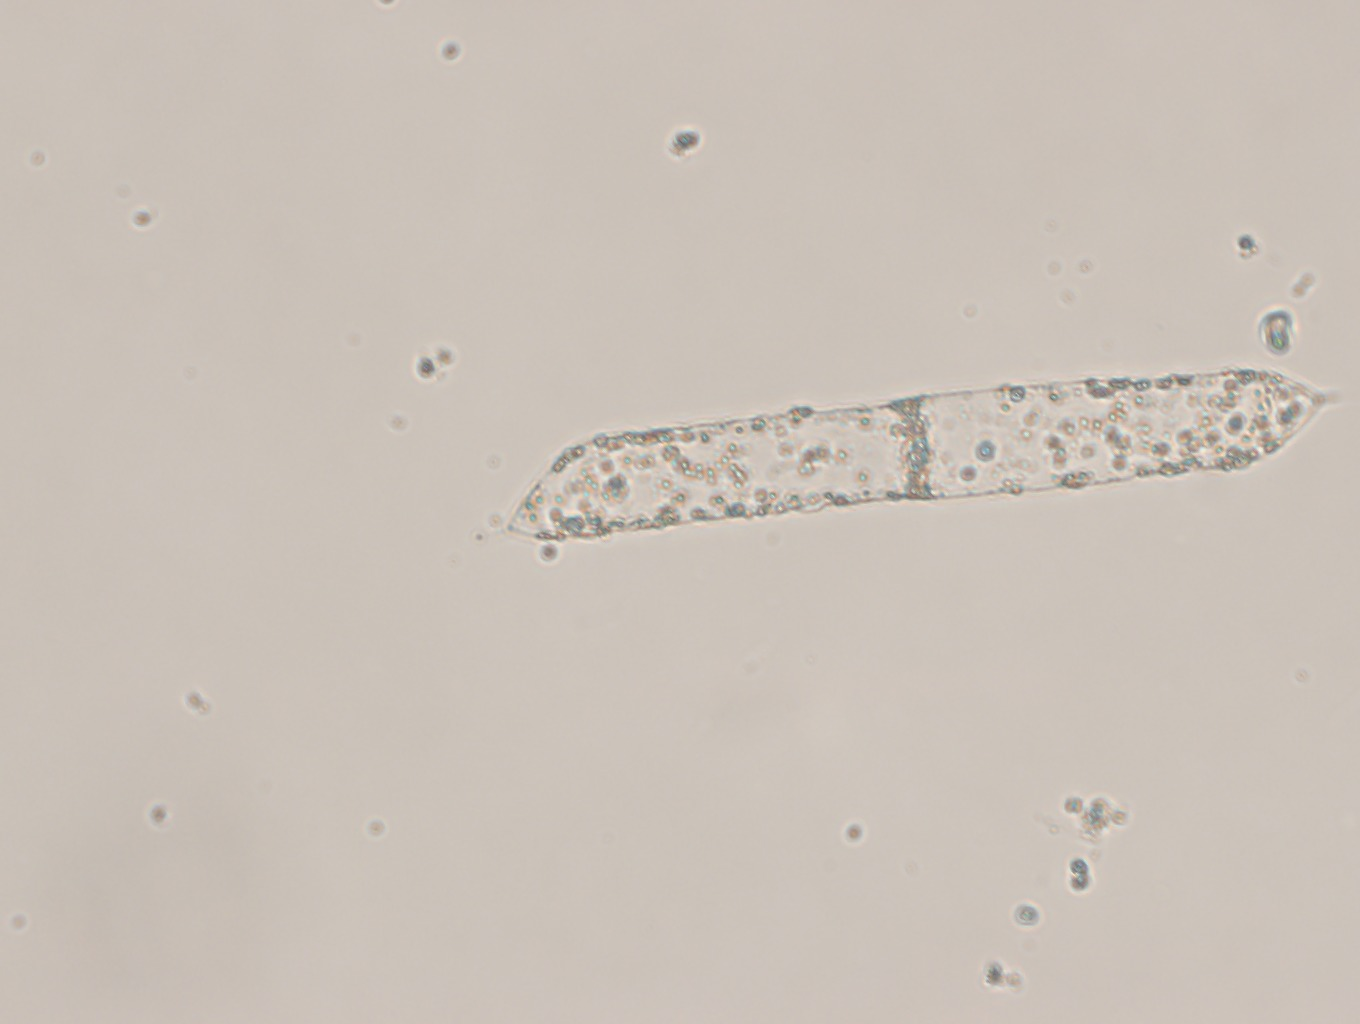rhizosolenia: (476, 368, 1344, 543)
